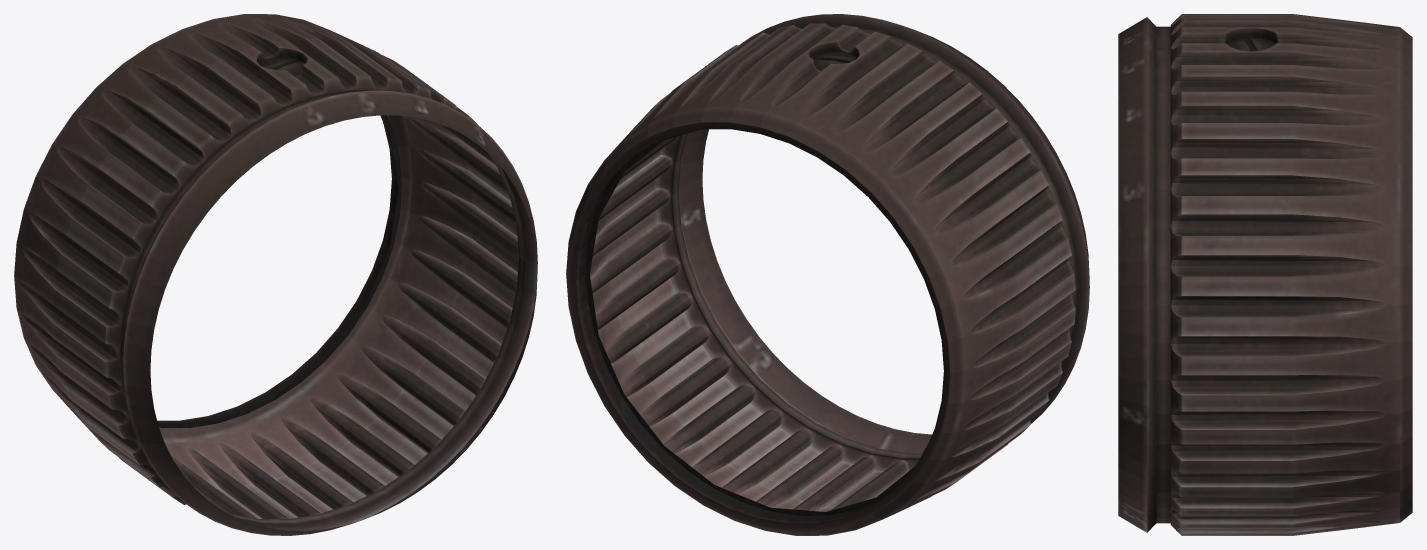
The picture shows the model from 3 angles, left to right: view 1: azimuth 30°, elevation 25°; view 2: azimuth 150°, elevation 25°; view 3: azimuth 270°, elevation 25°; orthographic projection. The views are drawn at different scales.
Parts seen in each view (by area): view 1: TW_618ba27d9008e4636a67f61d_PZ_Import; view 2: TW_618ba27d9008e4636a67f61d_PZ_Import; view 3: TW_618ba27d9008e4636a67f61d_PZ_Import.
Part boxes in pixels (x1,y1,x2,y2): TW_618ba27d9008e4636a67f61d_PZ_Import: (14,14,537,535); TW_618ba27d9008e4636a67f61d_PZ_Import: (566,14,1089,535); TW_618ba27d9008e4636a67f61d_PZ_Import: (1118,14,1412,535).
Bounding box in the file's own units: 0.0279 × 0.0157 × 0.0279.
Materials: 1 (1 with a texture image).
